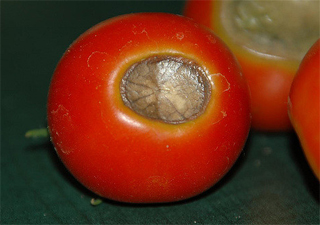blossom_rotw: (97, 34, 223, 146)
